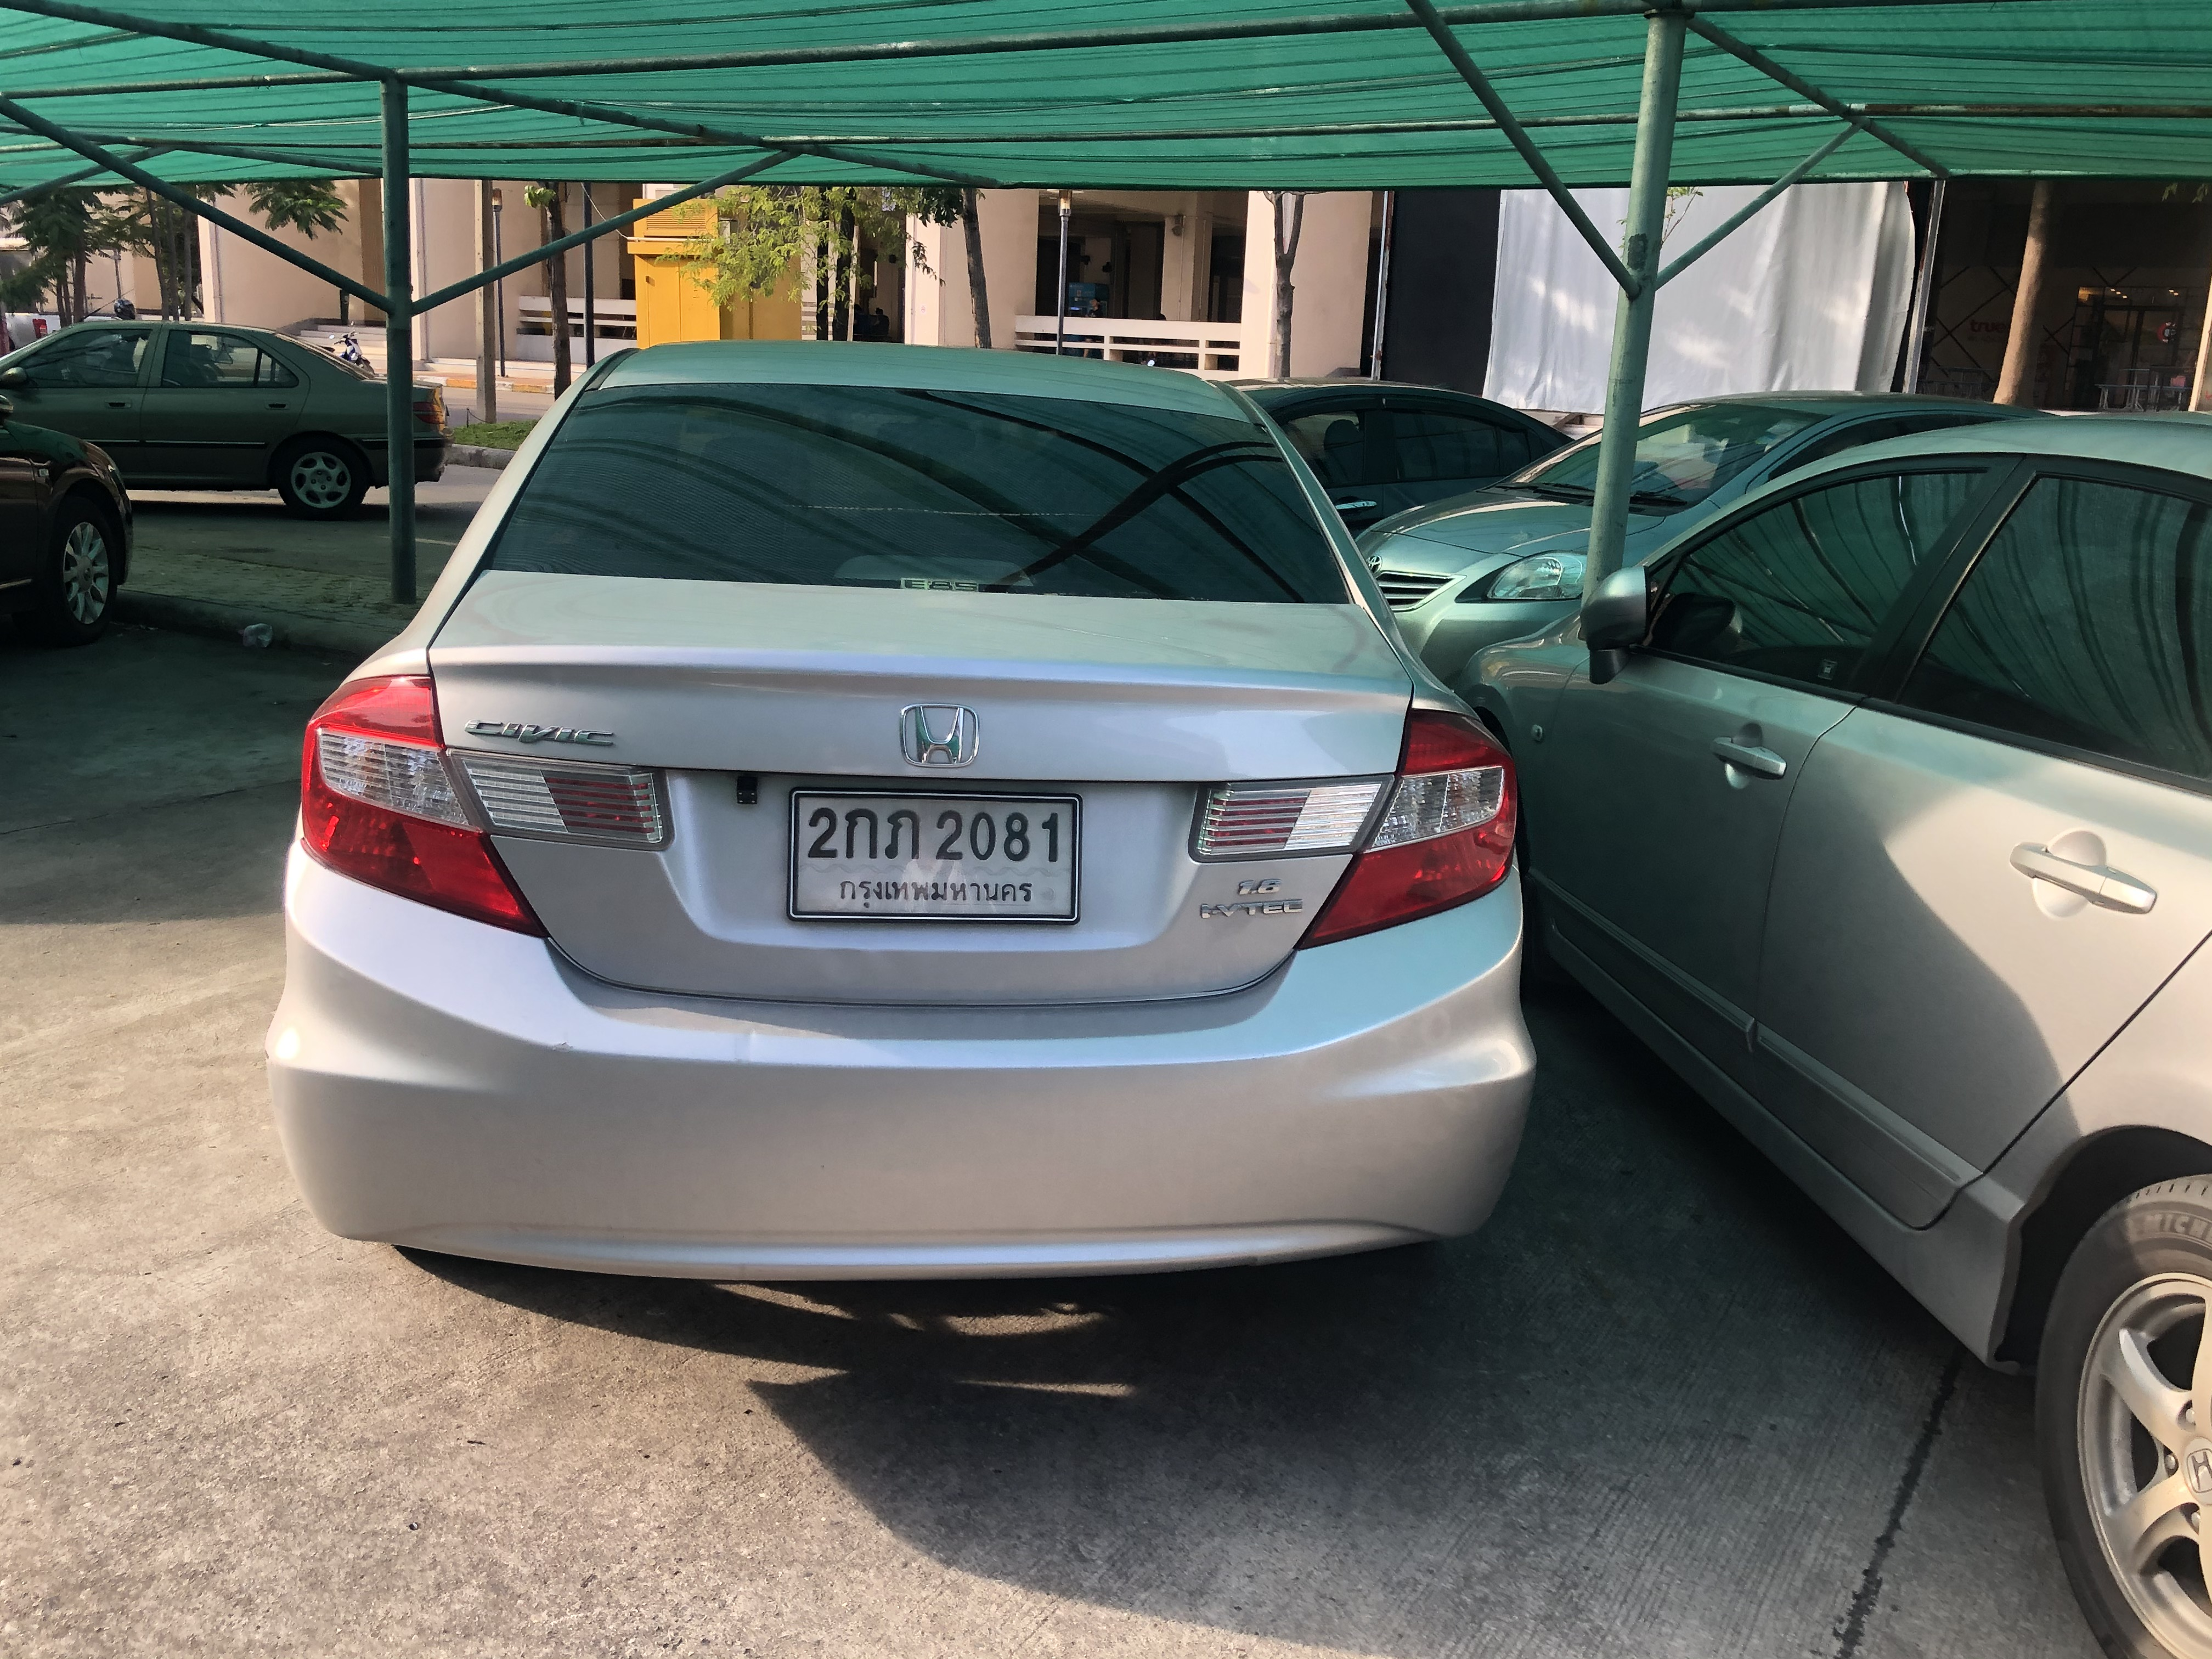in: (799, 793, 1075, 920)
out: (789, 775, 1087, 934)
